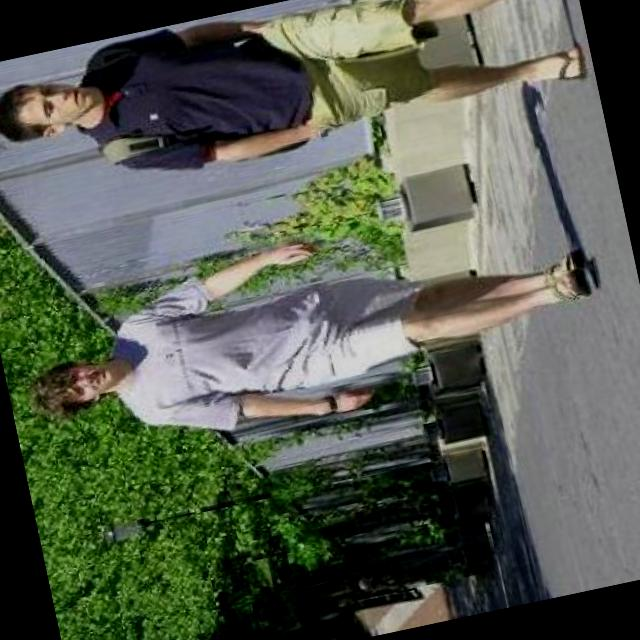Person: (9, 174, 624, 478), (0, 0, 597, 211)
